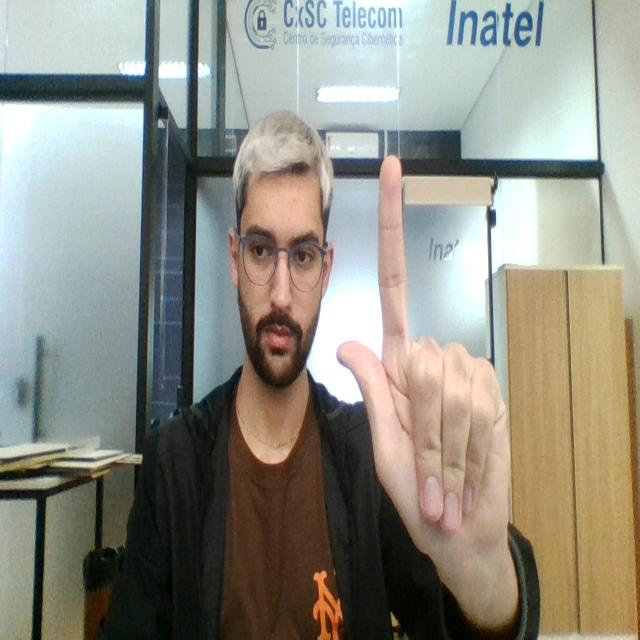G: (331, 153, 519, 569)
